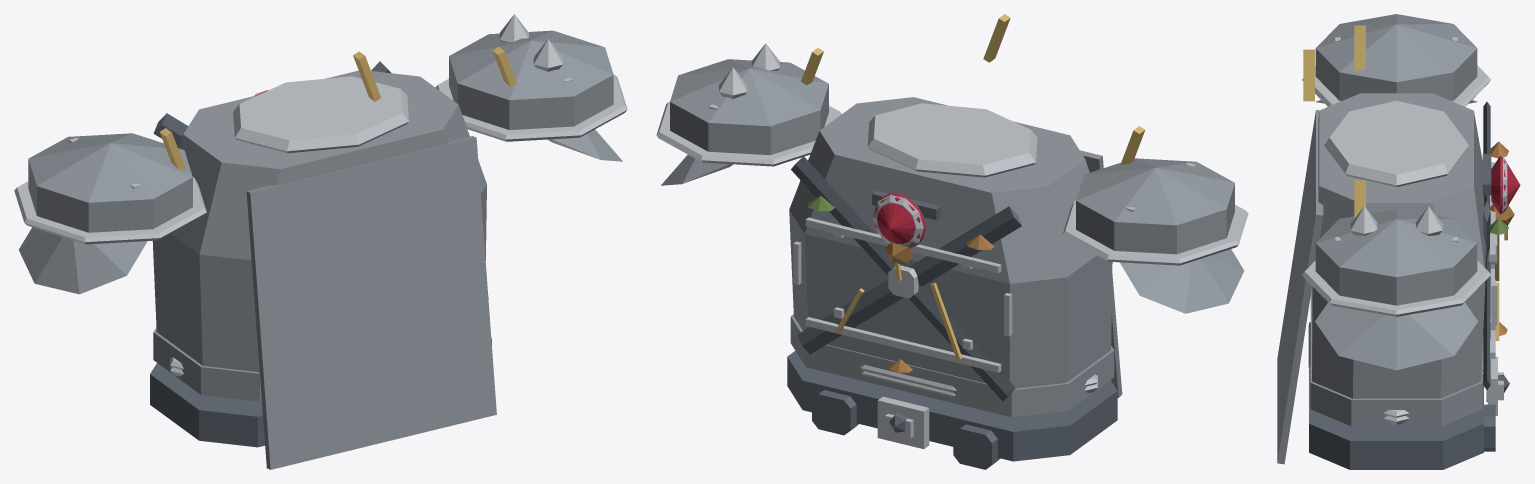
File: armor_dualblade_s5.fbx
3 renders of one model, left to right at view 1: azimuth 30°, elevation 25°; view 2: azimuth 150°, elevation 25°; view 3: azimuth 270°, elevation 25°, orthographic. The views are drawn at different scales.
Parts seen in each view (by area): view 1: Chest_Body, Shoulder_L_Body, Shoulder_R_Body, Chest_Trim, Chest_Inner, Shoulder_R_Trim, Shoulder_L_Trim, Chest_Crack_Tr; view 2: Chest_Body, Chest_Inner, Chest_Trim, Shoulder_L_Body, Shoulder_R_Body, Shoulder_R_Trim, Shoulder_L_Trim, Chest_Crack_Tr, Chest_CoreGem, Chest_Trim_Ep; view 3: Chest_Body, Shoulder_R_Body, Chest_Trim, Shoulder_L_Body, Chest_Inner, Shoulder_R_Trim, Chest_Crack_Tr, Shoulder_L_Trim, Chest_CoreGem, Chest_Trim_Ep, Chest_Gem_Ep.
Part boxes in pixels (x1,y1,x2,y2): Chest_Body: (152,70,496,469); Shoulder_L_Body: (19,133,192,294); Shoulder_R_Body: (449,30,622,161); Chest_Trim: (170,76,408,376); Chest_Inner: (150,61,491,447); Shoulder_R_Trim: (435,14,627,141); Shoulder_L_Trim: (14,138,206,244); Chest_Crack_Tr: (159,47,516,169); Chest_Body: (789,97,1122,417); Chest_Inner: (787,156,1117,469); Chest_Trim: (793,103,1097,449); Shoulder_L_Body: (1076,158,1244,313); Shoulder_R_Body: (661,59,828,185); Shoulder_R_Trim: (656,43,841,166); Shoulder_L_Trim: (1062,162,1248,265); Chest_Crack_Tr: (801,14,1145,359); Chest_CoreGem: (875,193,925,248); Chest_Trim_Ep: (860,365,1097,392); Chest_Body: (1277,93,1485,464); Shoulder_R_Body: (1315,209,1477,370); Chest_Trim: (1309,100,1507,424); Shoulder_L_Body: (1315,14,1477,103); Chest_Inner: (1309,101,1509,469); Shoulder_R_Trim: (1302,206,1490,316); Chest_Crack_Tr: (1303,25,1507,340); Shoulder_L_Trim: (1302,37,1490,106); Chest_CoreGem: (1491,156,1520,214); Chest_Trim_Ep: (1308,322,1483,417); Chest_Gem_Ep: (1490,141,1508,335).
Bounding box in the file's own units: 446 × 272 × 167.
